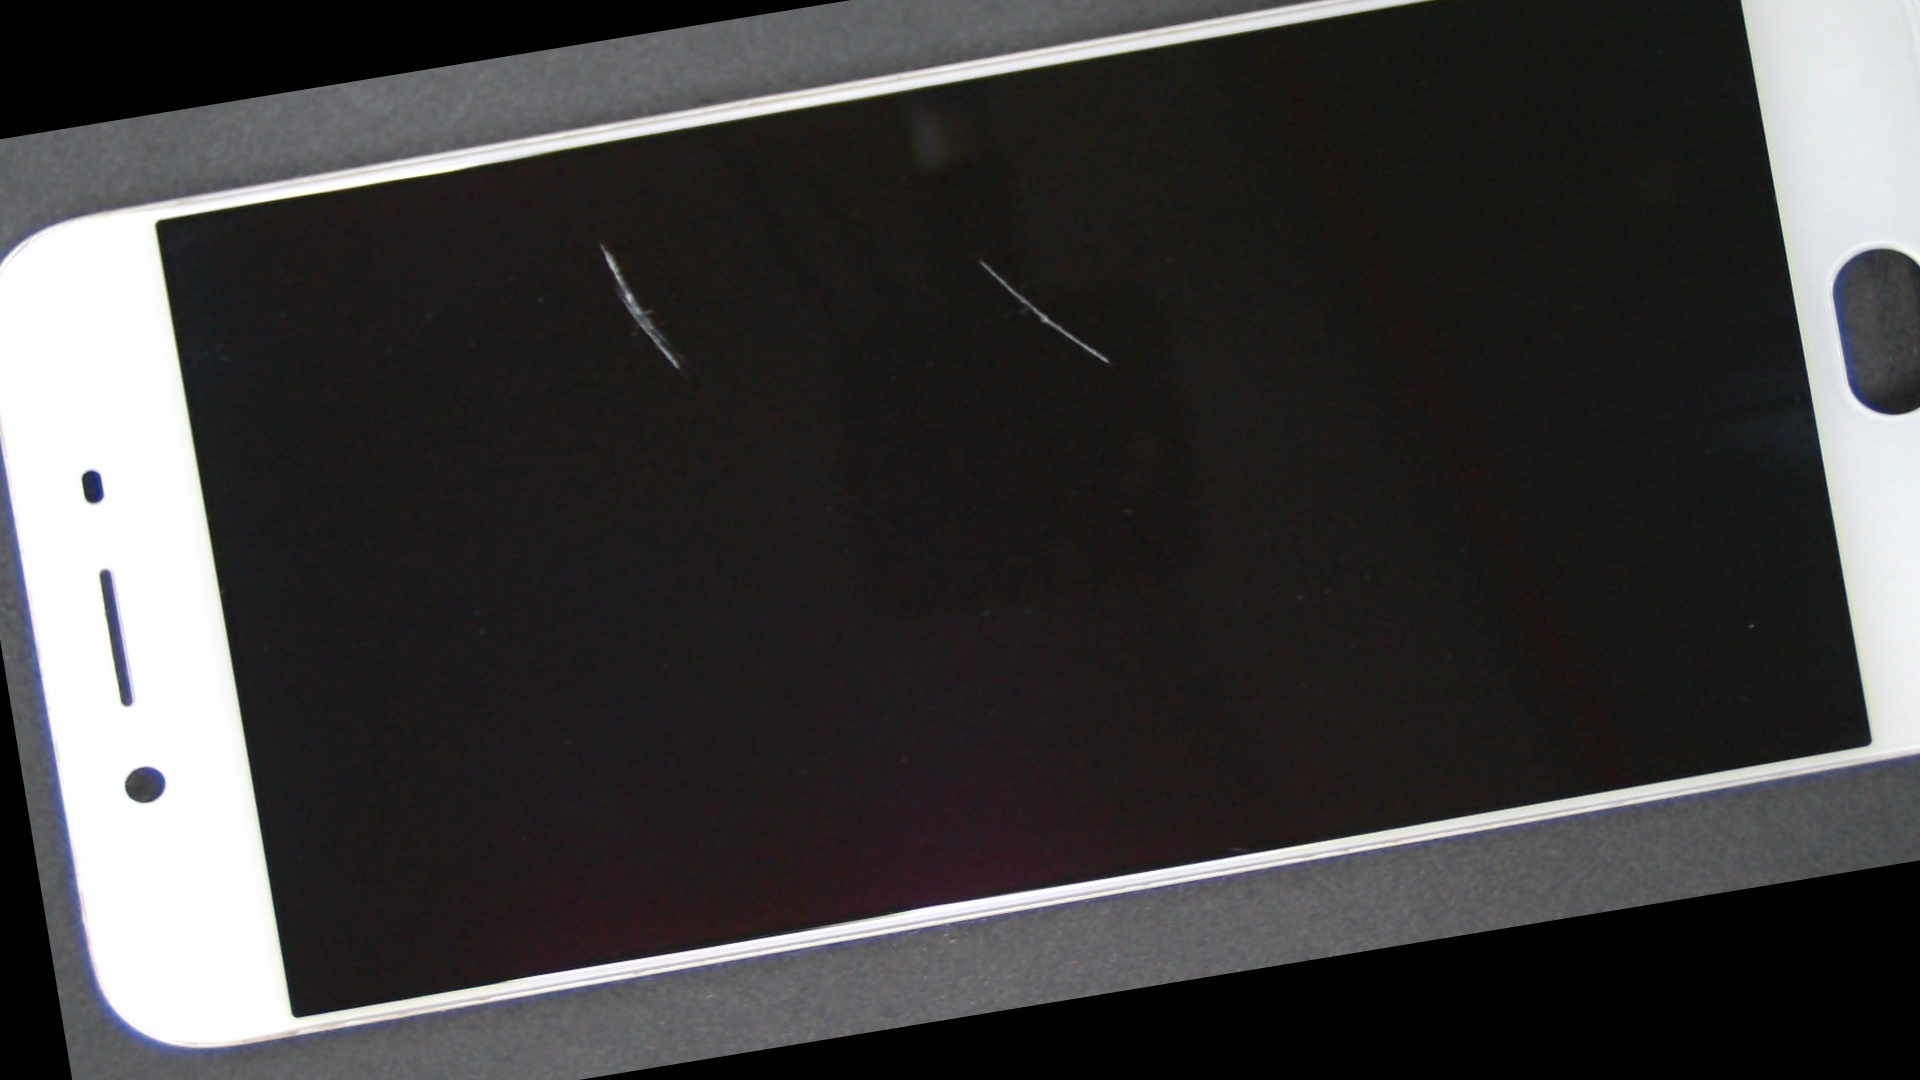oil: (451, 40, 1511, 480), (260, 88, 940, 401)
